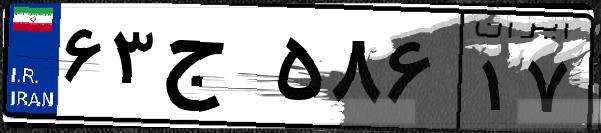1: (475, 38, 525, 113)
3: (110, 28, 158, 98)
5: (270, 28, 330, 110)
6: (385, 28, 445, 110), (57, 26, 110, 100)
7: (525, 38, 570, 115)
8: (330, 28, 385, 110)
ج: (158, 20, 270, 120)
